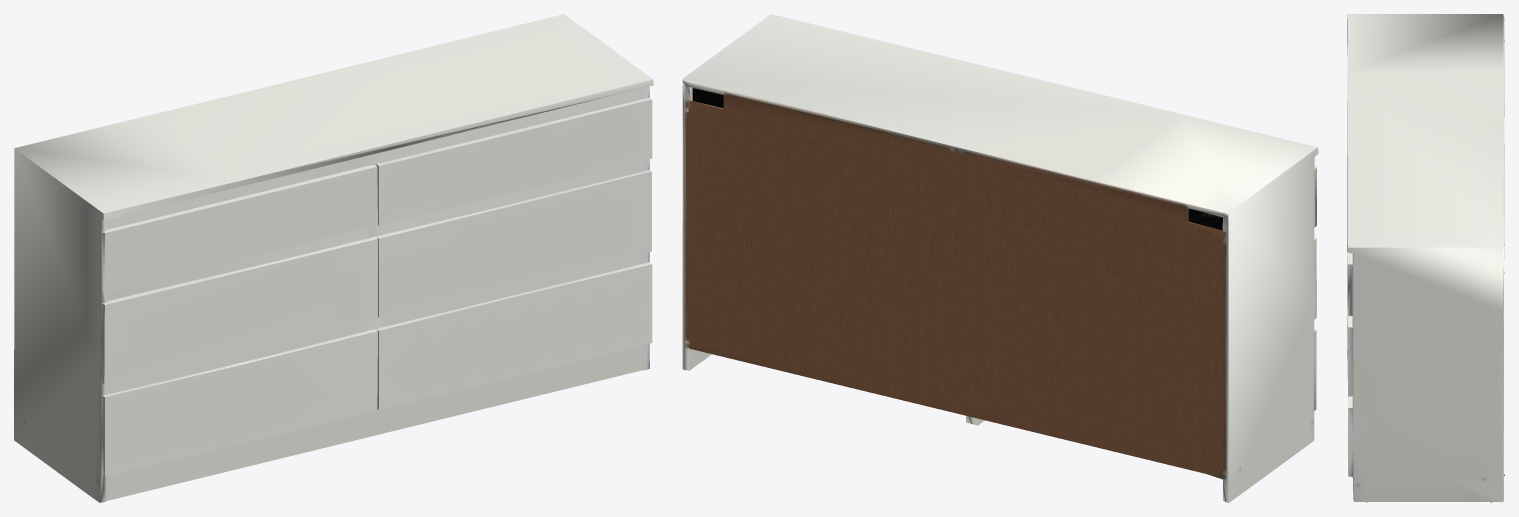
Rendered from 05 - KULLEN Chest of 6 drawers - white 140x40x72 cm.glb.
3 views of the same model, side by side, from view 1: azimuth 30°, elevation 25°; view 2: azimuth 150°, elevation 25°; view 3: azimuth 270°, elevation 25° (orthographic). The views are drawn at different scales.
Parts seen in each view (by area): view 1: ProcessedMeshNode; view 2: ProcessedMeshNode; view 3: ProcessedMeshNode.
Boxes of the visible parts, bbox=[...] form: ProcessedMeshNode: bbox=[14, 14, 653, 502]; ProcessedMeshNode: bbox=[682, 14, 1318, 502]; ProcessedMeshNode: bbox=[1347, 14, 1504, 502].
Bounding box in the file's own units: 1.4 × 0.7147 × 0.3995.
1 material, 1 textured.
